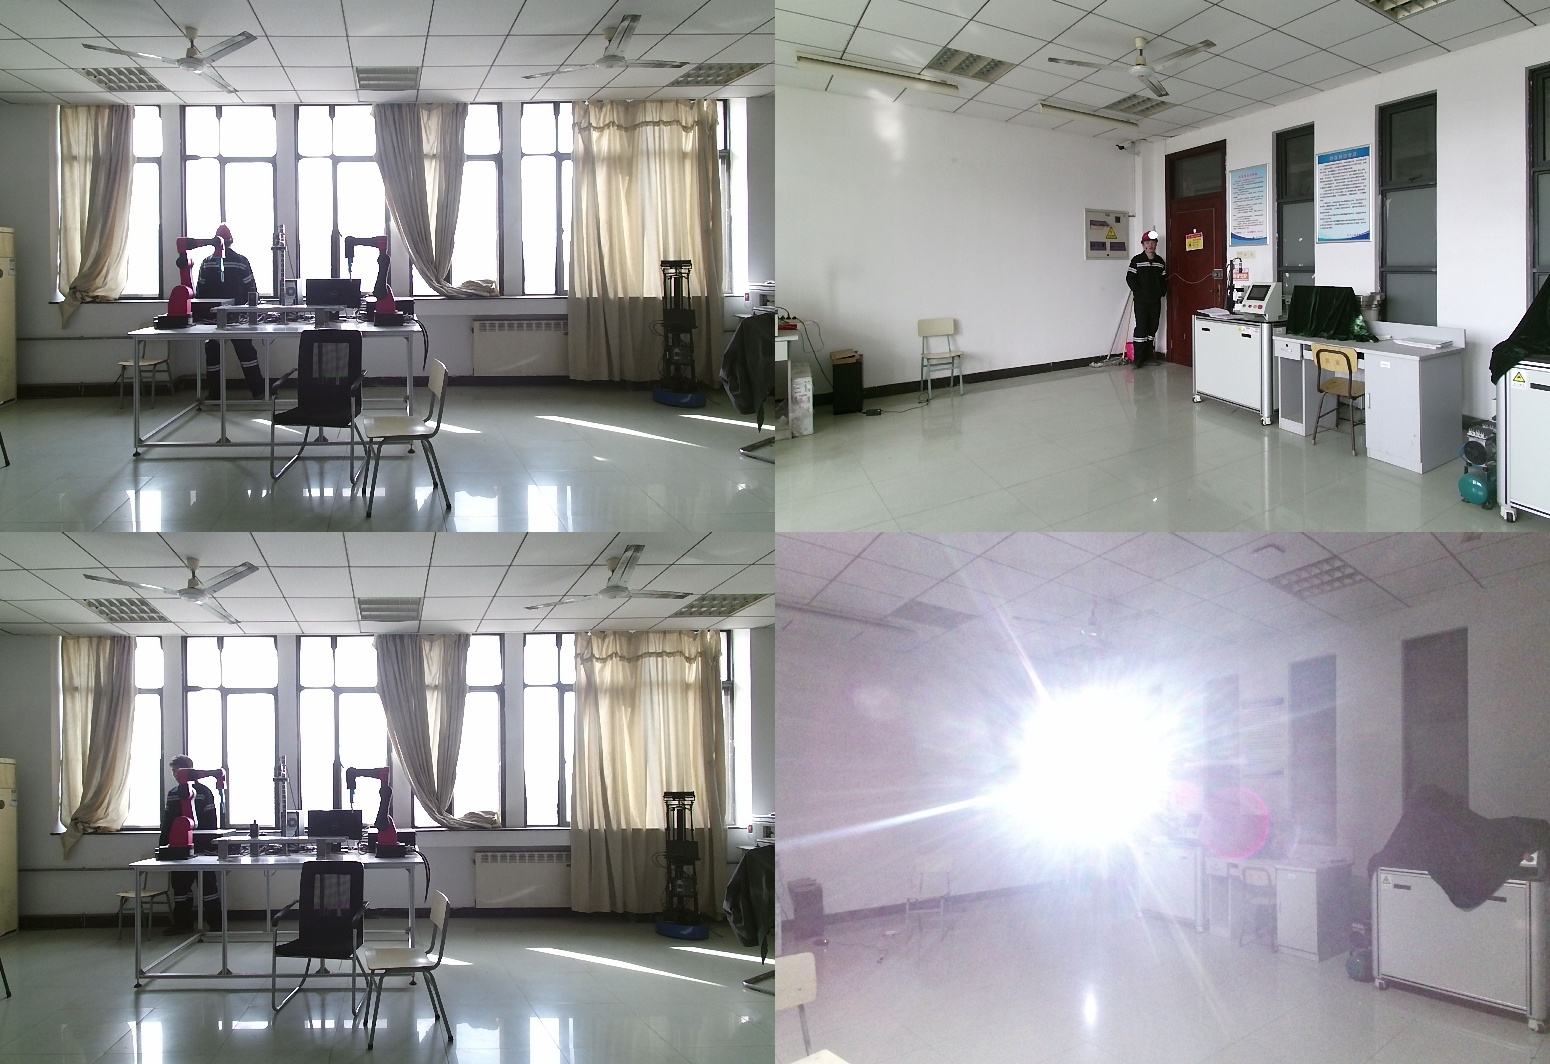person: (196, 227, 270, 412), (157, 755, 226, 943), (1124, 232, 1167, 371), (1065, 768, 1108, 894)
